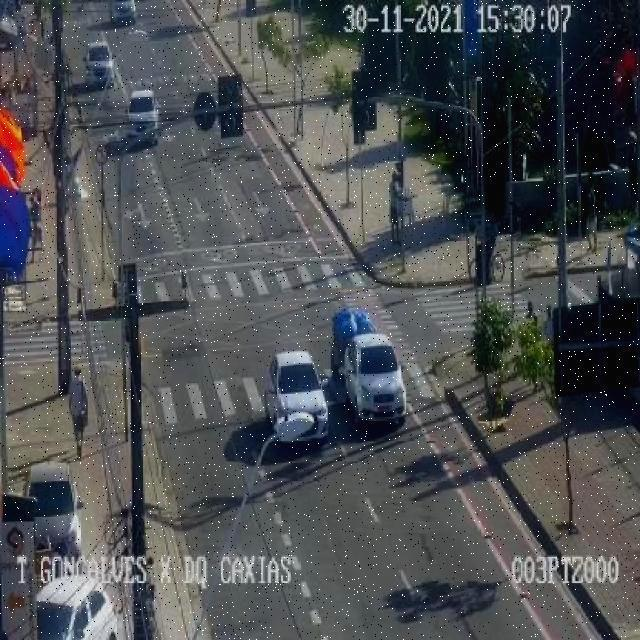Car: (262, 350, 330, 444), (340, 330, 408, 422), (23, 462, 84, 558), (1, 490, 40, 634), (35, 574, 122, 638), (70, 42, 134, 94), (330, 306, 374, 372), (127, 90, 161, 146), (110, 0, 136, 27), (0, 11, 19, 40)
